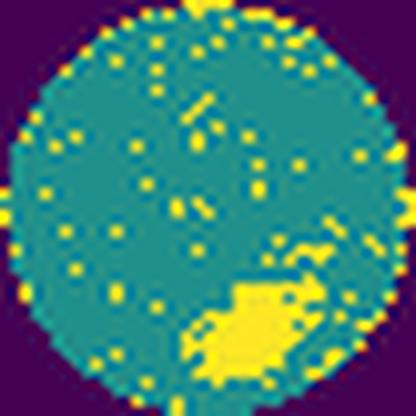Loc: (180, 270, 329, 385)
